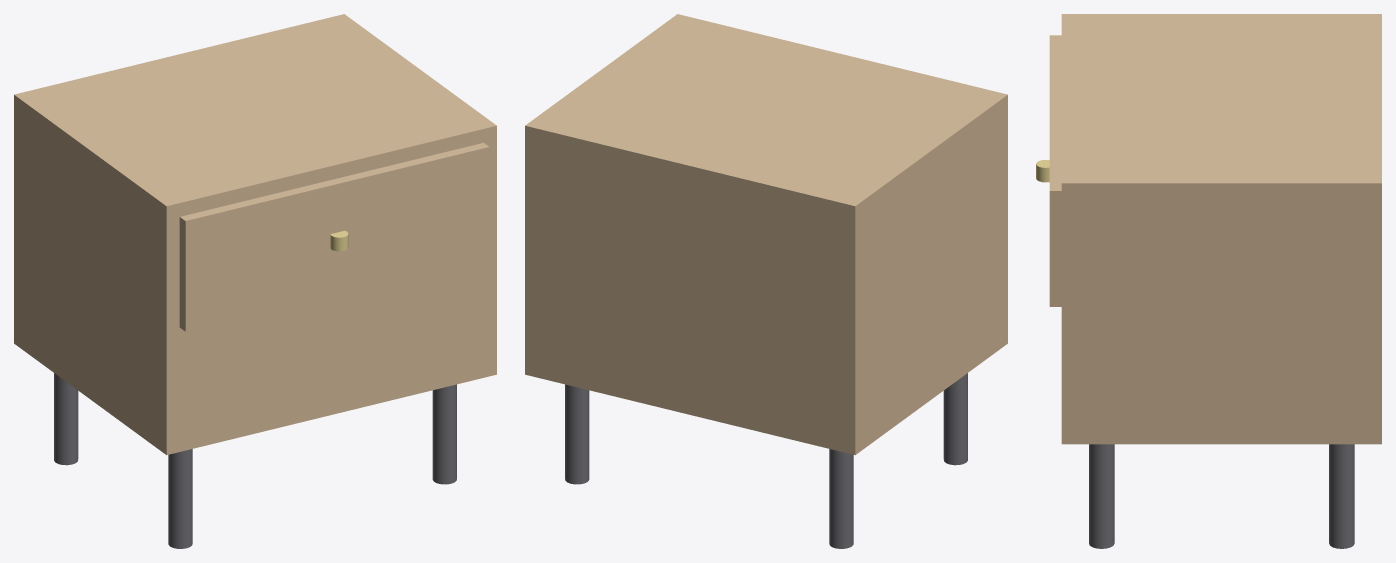
File: STAND001.glb
3 views of the same model, side by side, from view 1: azimuth 30°, elevation 25°; view 2: azimuth 150°, elevation 25°; view 3: azimuth 270°, elevation 25° (orthographic). The views are drawn at different scales.
Parts seen in each view (by area): view 1: FurnitureRoot; view 2: FurnitureRoot; view 3: FurnitureRoot.
Boxes of the visible parts, x1,y1,x2,y2 form: FurnitureRoot: (14, 14, 496, 548); FurnitureRoot: (525, 14, 1007, 548); FurnitureRoot: (1036, 14, 1381, 548).
Bounding box in the file's own units: 50 × 52 × 43.2.
